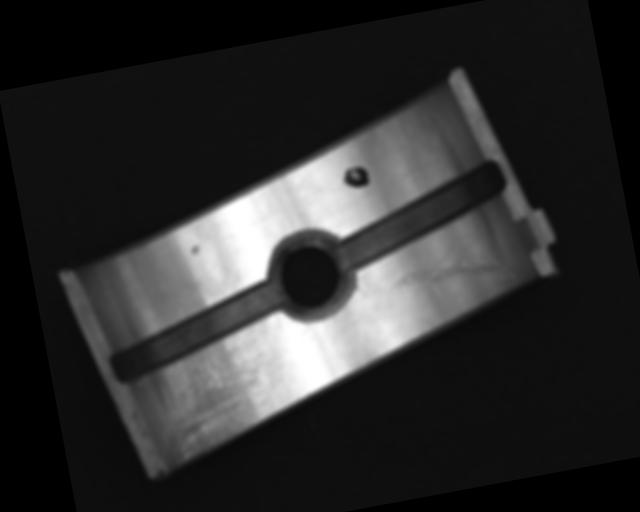blot: (340, 163, 372, 191)
bruise: (189, 244, 202, 255)
gap: (325, 155, 517, 273), (99, 279, 290, 385)
hole: (261, 228, 360, 327)
nick: (385, 230, 517, 300)
scratch: (149, 336, 281, 464)
